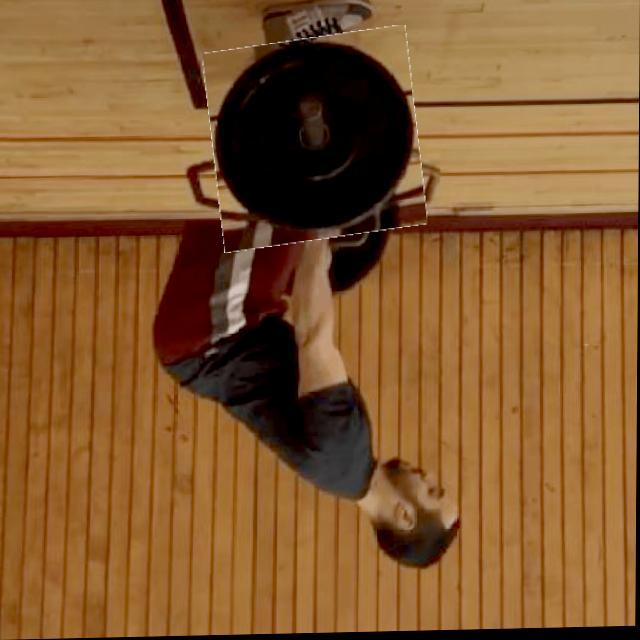barbell: (208, 33, 424, 249)
